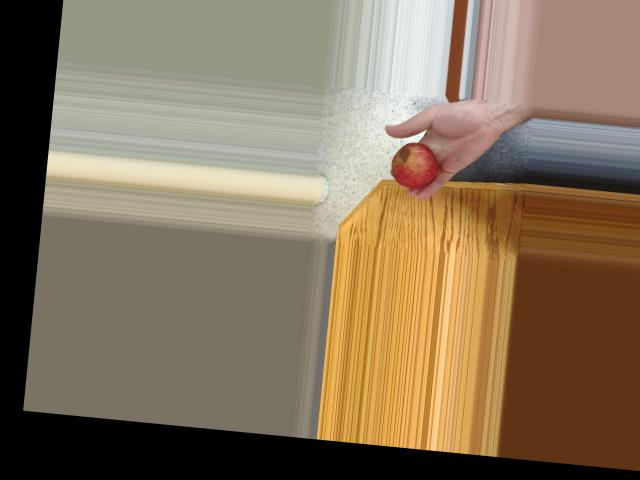apple: (387, 137, 439, 191)
